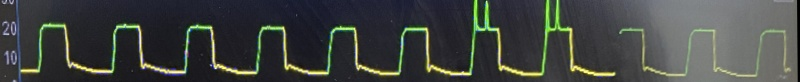hydrop_pressure: (461, 0, 613, 82)
normal_pressure: (25, 18, 451, 82), (639, 17, 796, 82)
